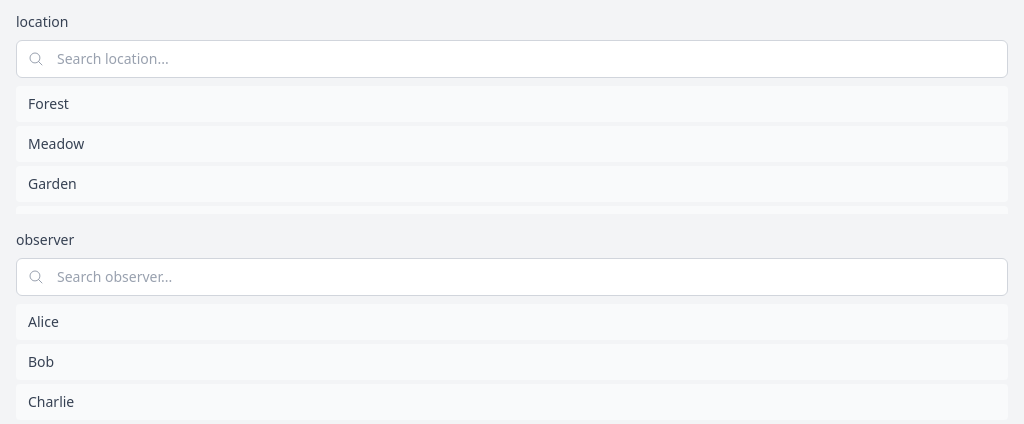
it: CustomFieldsFilter › Text Field Rendering › filters text field values based on search query
Expected: the button "Forest" is shown, x1=16 y1=86 x2=1008 y2=122
Type "for" into the field with placeholder "Search location..." at (512, 59), box x1=16 y1=40 x2=1008 y2=78
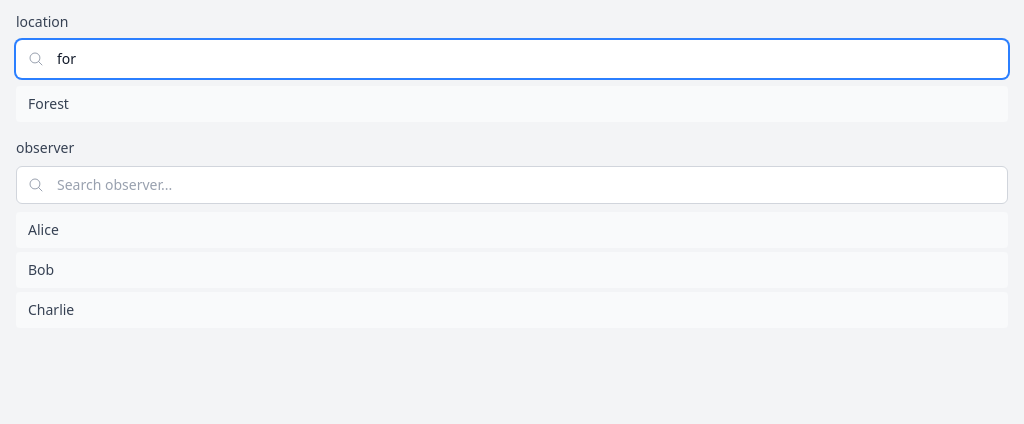
Expected: the button "Forest" is shown, x1=16 y1=86 x2=1008 y2=122
Expected: the button "Meadow" is gone
Expected: the button "Garden" is gone
